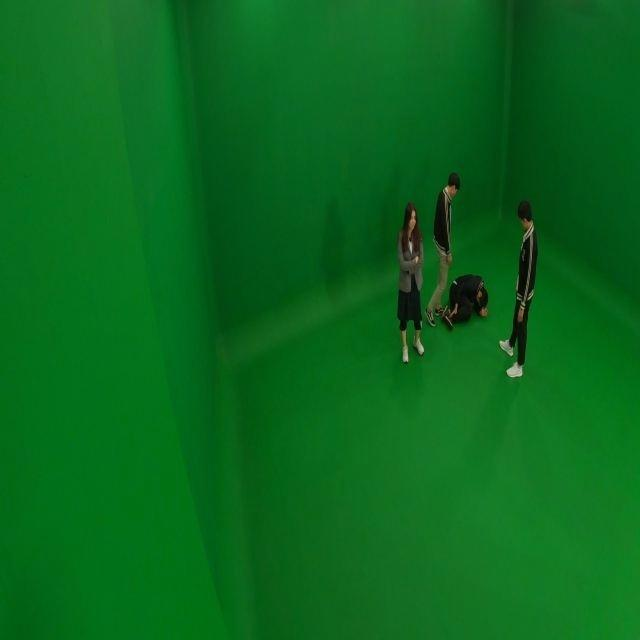fight: (427, 170, 490, 332)
non-fight: (502, 197, 538, 380), (394, 203, 427, 363)
